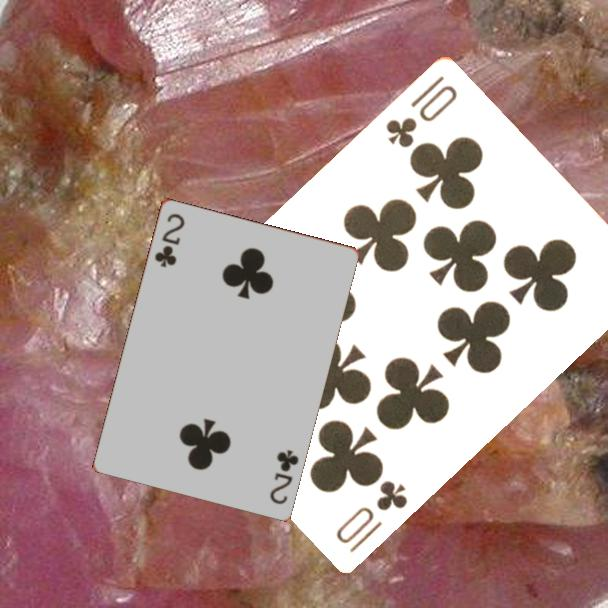c02: (151, 210, 188, 270), (266, 446, 301, 507)
c10: (332, 476, 411, 555), (382, 71, 460, 151)
